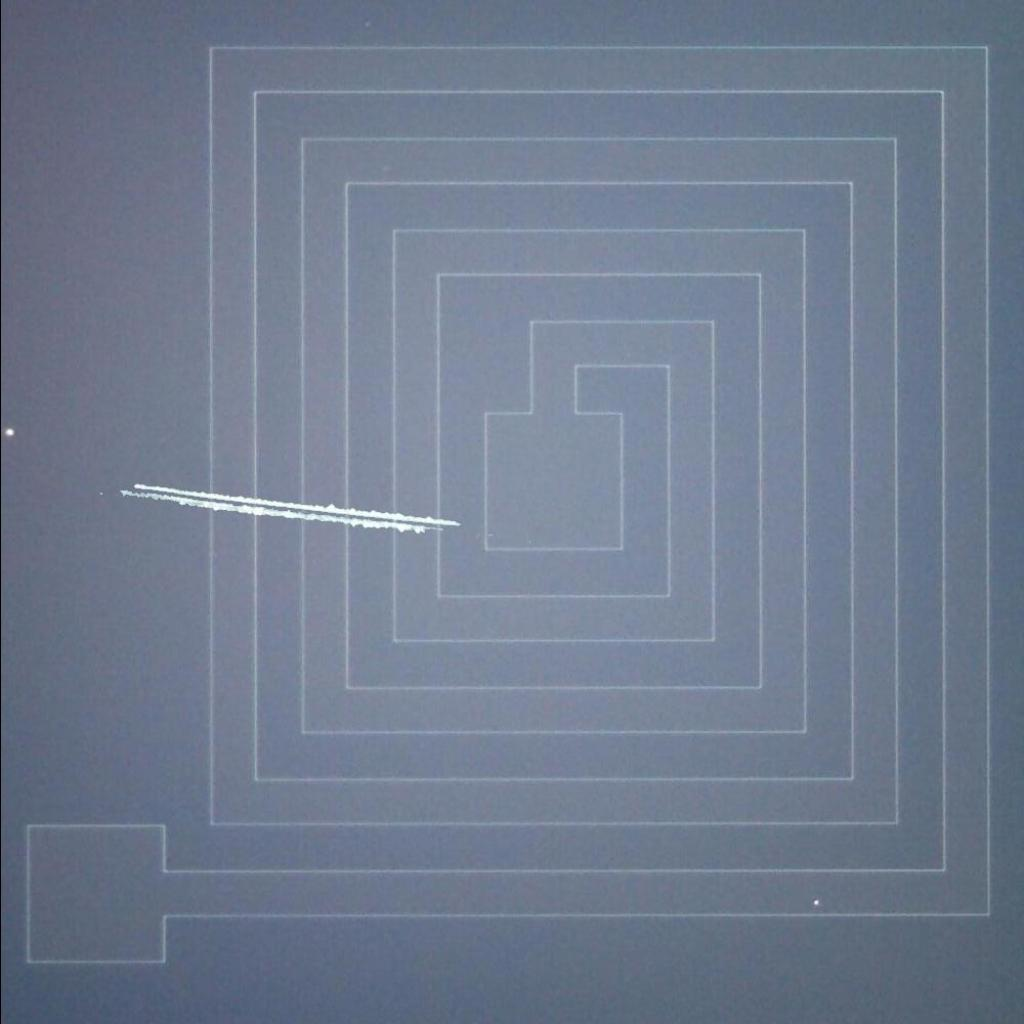dot: (800, 890, 831, 913), (1, 416, 23, 440)
scratch: (114, 472, 462, 544)
